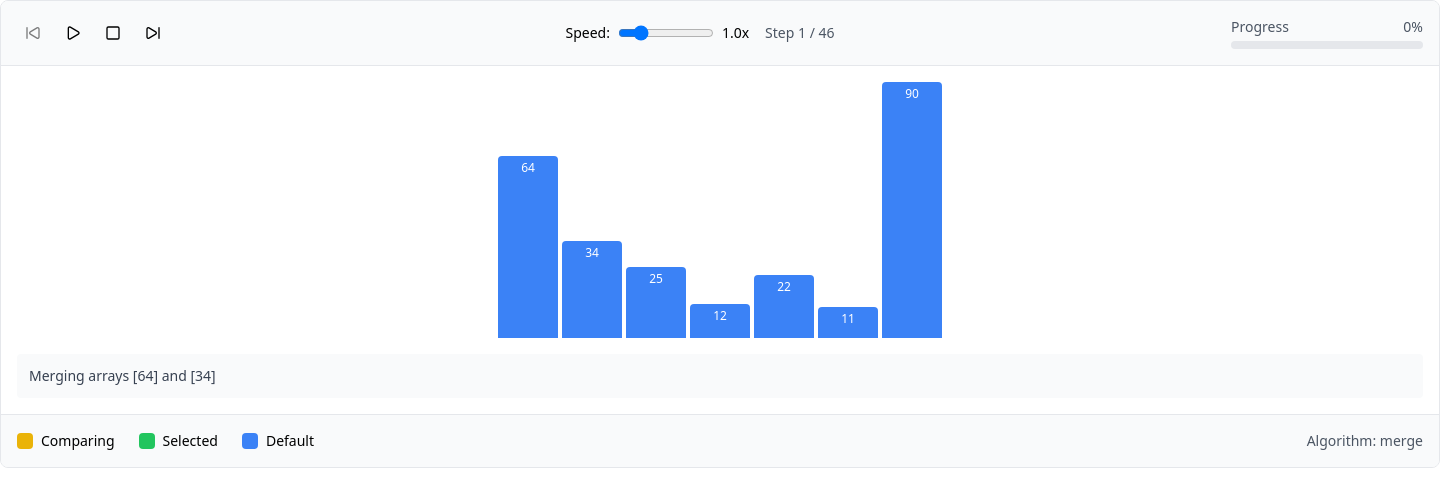
Test: SortingVisualization › handles play/pause functionality
Click the button named "play": (73, 33) [57, 17, 89, 49]
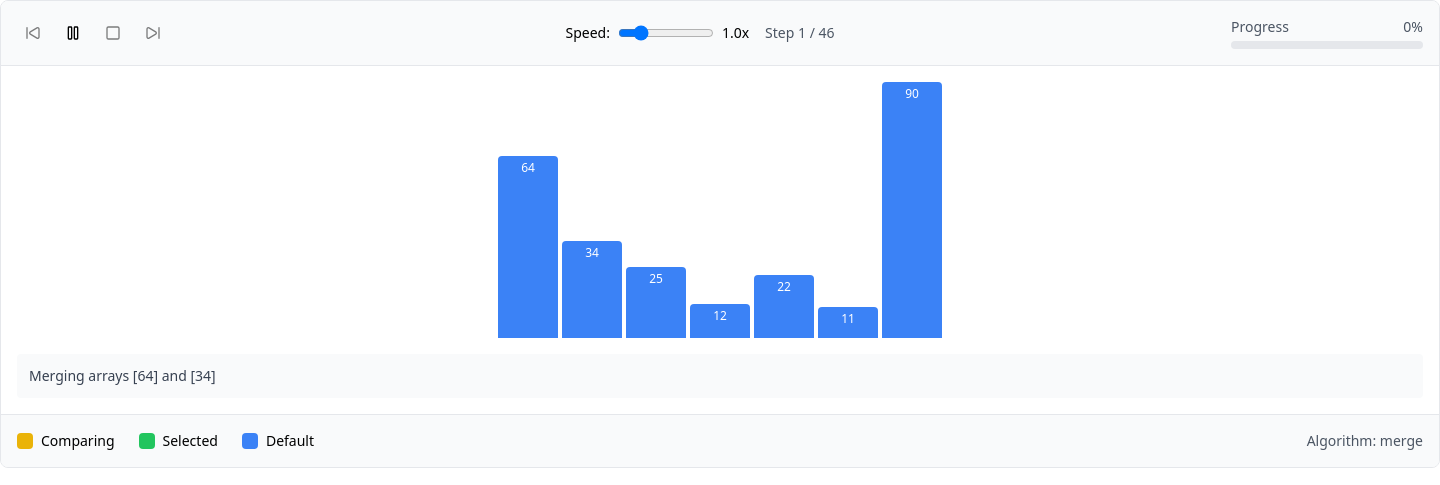
Check: the button named "pause" is shown, box [57, 17, 89, 49]
